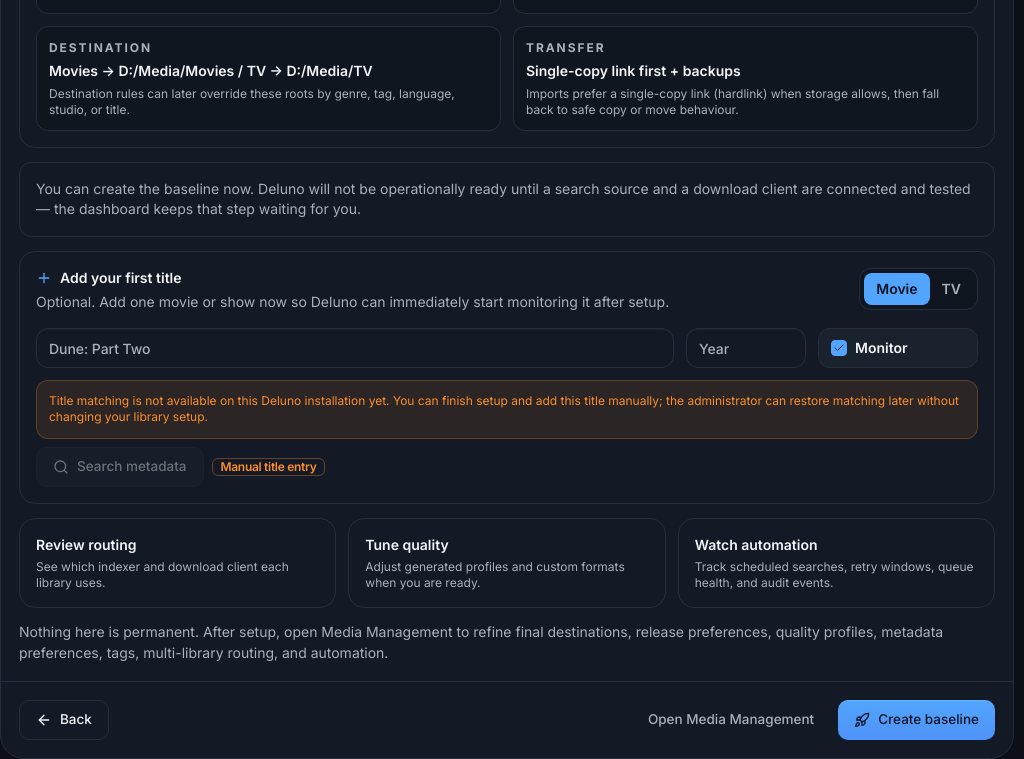
Test: the Start step, low rows (#1329) › while the baseline is being made the button shows a spinner and cannot be pressed again, and Back is disabled
This screenshot has width=1024, height=759.
(page scrolled)
Click the button "Create baseline" at (917, 720), box [838, 700, 995, 740]
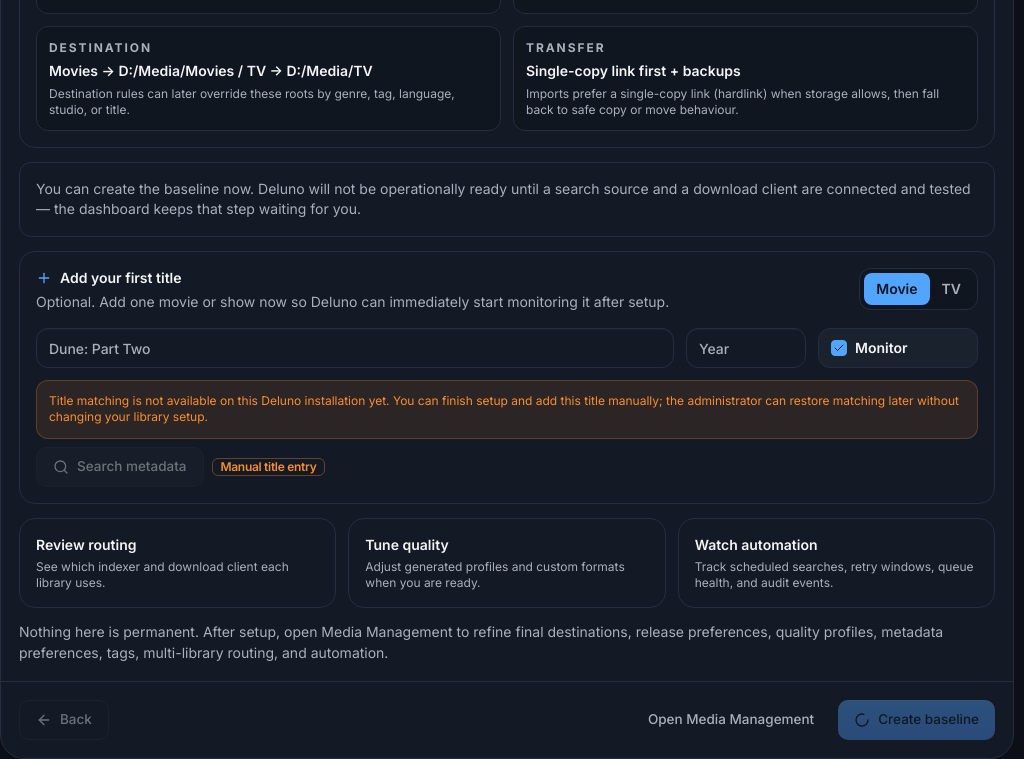
Check: the button "Create baseline" is disabled, box [838, 700, 995, 740]
Check: the button "Back" is disabled, box [19, 700, 109, 740]
